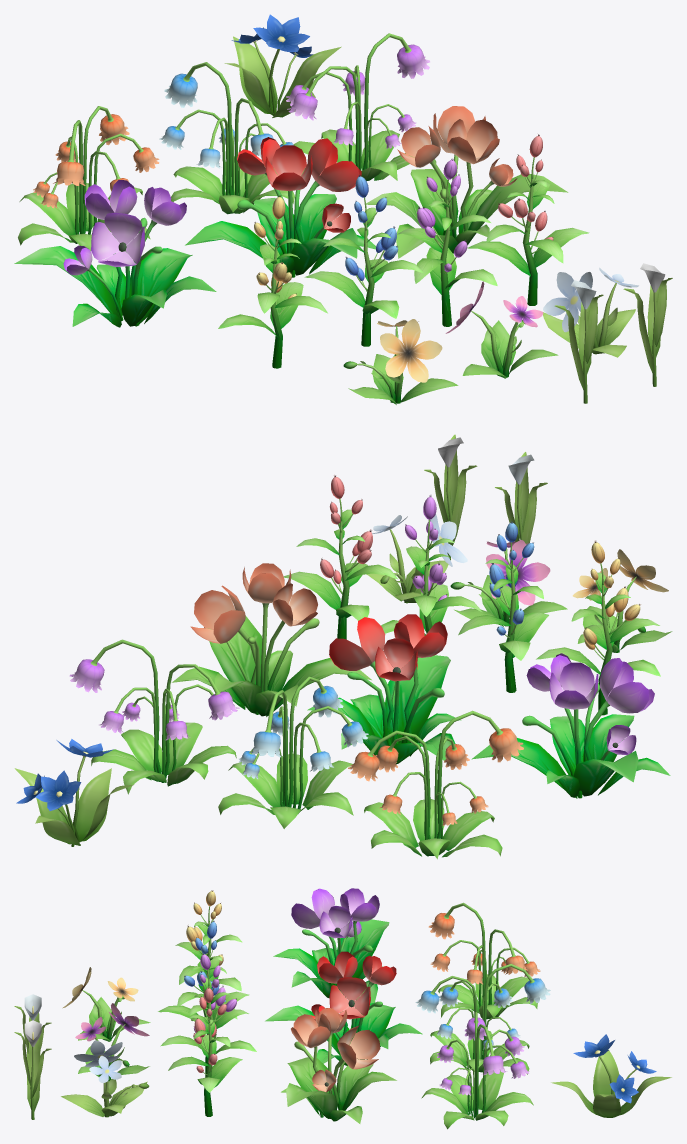
Rendered from flowers_pack_4.fbx.
The picture shows the model from 3 angles, top to bottom: view 1: azimuth 30°, elevation 25°; view 2: azimuth 150°, elevation 25°; view 3: azimuth 270°, elevation 25°; orthographic projection. The views are drawn at different scales.
Visible parts, largest first — view 1: Cylinder.012, Cylinder.011, Cylinder.010, Cylinder.013, Cylinder.015, Cylinder.014, Cylinder.009, Circle.009, Circle.002, Circle.001, Cylinder.008, Circle.003 (+4 smaller); view 2: Cylinder.012, Cylinder.010, Cylinder.011, Cylinder.014, Cylinder.015, Cylinder.013, Cylinder.009, Circle.009, Circle.002, Circle.003, Circle.001, Cylinder.007 (+4 smaller); view 3: Cylinder.010, Cylinder.012, Cylinder.011, Cylinder.015, Cylinder.014, Cylinder.013, Cylinder.009, Cylinder.002, Circle.009, Circle.001, Circle.003, Circle.002 (+4 smaller).
Boxes of the visible parts, x1,y1,x2,y2 form: Cylinder.012: (14,180,216,327); Cylinder.011: (185,137,375,277); Cylinder.010: (364,106,568,258); Cylinder.013: (159,62,294,214); Cylinder.015: (286,33,436,180); Cylinder.014: (18,106,159,250); Cylinder.009: (224,14,341,117); Circle.009: (467,134,589,305); Circle.002: (304,175,423,346); Circle.001: (397,158,497,326); Cylinder.008: (343,319,458,404); Circle.003: (218,195,327,368); Cylinder.012: (471,653,670,798); Cylinder.010: (171,563,371,716); Cylinder.011: (307,614,461,764); Cylinder.014: (348,710,523,859); Cylinder.015: (69,639,239,794); Cylinder.013: (218,676,368,828); Cylinder.009: (14,739,134,846); Circle.009: (283,475,397,639); Circle.002: (458,521,548,692); Circle.003: (536,540,660,715); Circle.001: (381,495,482,635); Cylinder.007: (450,540,567,626); Cylinder.010: (281,1008,396,1123); Cylinder.012: (273,888,389,1003); Cylinder.011: (265,951,422,1065); Cylinder.015: (421,1012,533,1129); Cylinder.014: (428,902,540,1019); Cylinder.013: (415,964,550,1074); Cylinder.009: (551,1034,671,1117); Cylinder.002: (61,1040,149,1117); Circle.009: (168,987,242,1116); Circle.001: (160,953,256,1077); Circle.003: (175,890,242,1007); Circle.002: (158,921,249,1034).
Bounding box in the file's own units: 479 × 164 × 721.
Materials: 16 (16 with a texture image).
